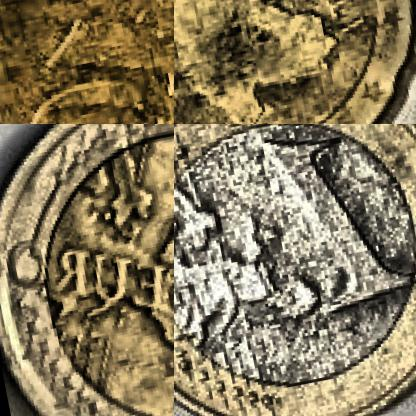coin: (174, 124, 415, 415), (0, 124, 173, 415), (174, 0, 415, 123), (0, 0, 173, 123)
